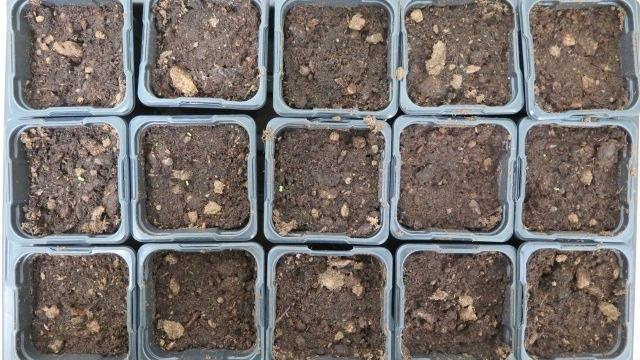weed: (72, 174, 86, 181), (276, 183, 285, 192)
